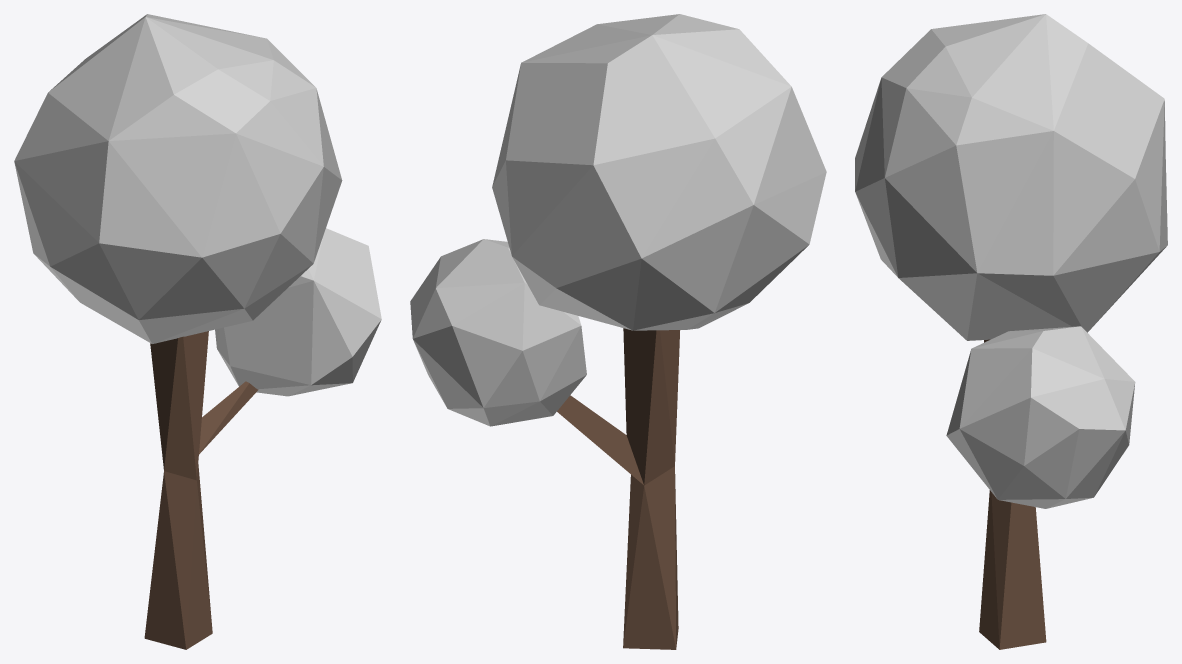
The model's file is Tree_54_White.fbx.
3 views of the same model, side by side, from view 1: azimuth 30°, elevation 25°; view 2: azimuth 150°, elevation 25°; view 3: azimuth 270°, elevation 25° (orthographic).
Visible parts, largest first — view 1: Tree_54_White_Part_1, Tree_54_White_Part_2, Tree_54_White_Part_3; view 2: Tree_54_White_Part_1, Tree_54_White_Part_2, Tree_54_White_Part_3; view 3: Tree_54_White_Part_1, Tree_54_White_Part_2, Tree_54_White_Part_3.
Part boxes in pixels (x1=…): Tree_54_White_Part_1: x1=14, y1=14, x2=342, y2=343; Tree_54_White_Part_2: x1=199, y1=228, x2=381, y2=454; Tree_54_White_Part_3: x1=144, y1=331, x2=212, y2=649; Tree_54_White_Part_1: x1=492, y1=14, x2=826, y2=330; Tree_54_White_Part_2: x1=410, y1=239, x2=643, y2=484; Tree_54_White_Part_3: x1=623, y1=328, x2=680, y2=649; Tree_54_White_Part_1: x1=855, y1=14, x2=1167, y2=340; Tree_54_White_Part_2: x1=946, y1=326, x2=1135, y2=508; Tree_54_White_Part_3: x1=979, y1=339, x2=1046, y2=649.
Bounding box in the file's own units: 358 × 602 × 278.
